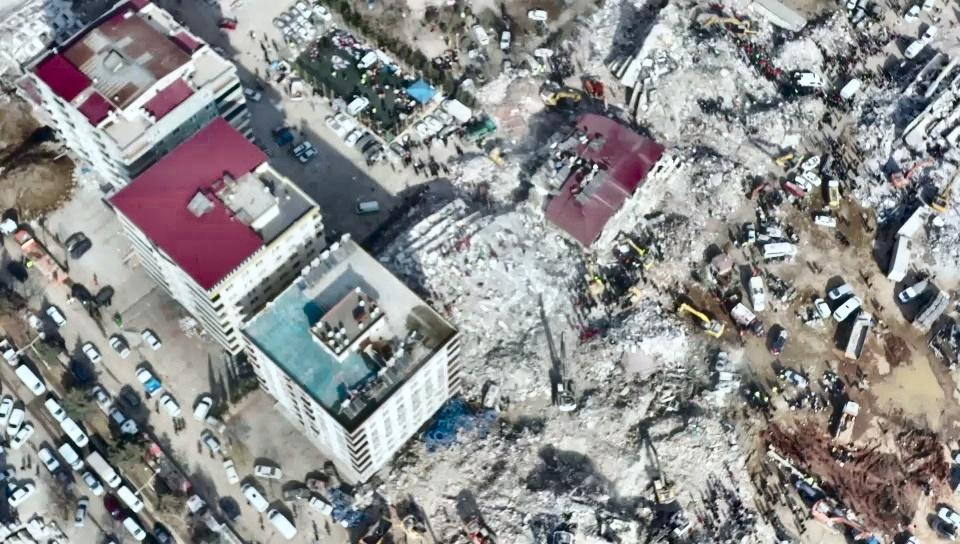kapali: (344, 161, 844, 511)
